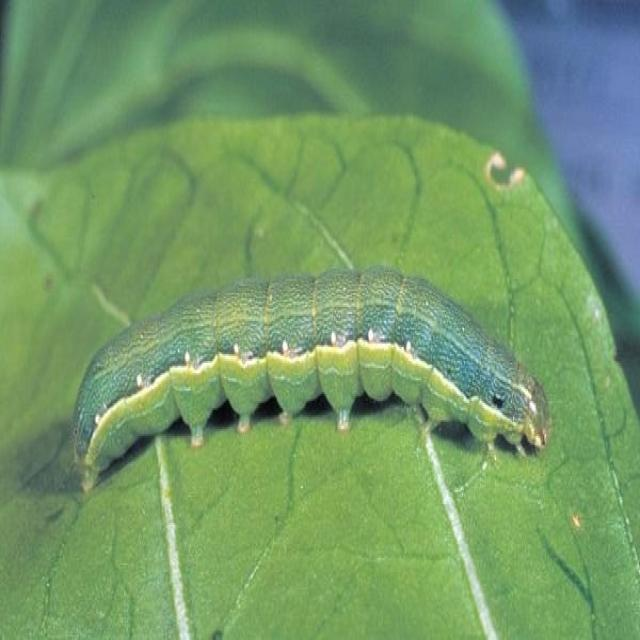armyworm: (70, 262, 552, 495)
